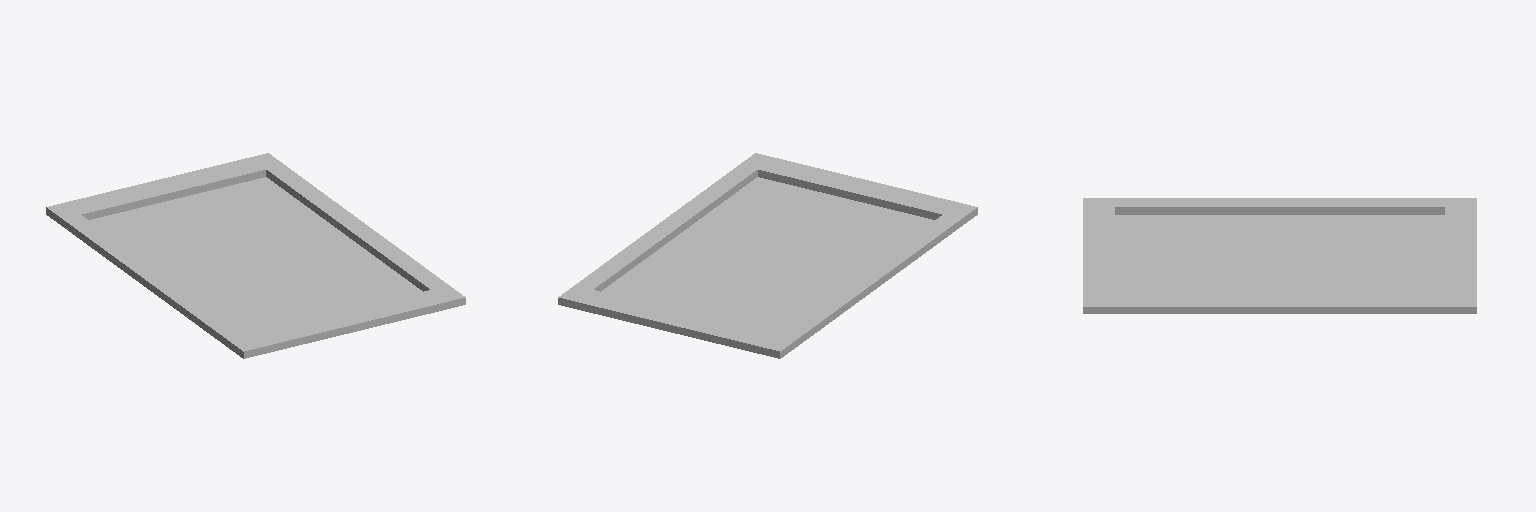
Rendered from frame.obj.
The picture shows the model from 3 angles: view 1: azimuth 30°, elevation 25°; view 2: azimuth 150°, elevation 25°; view 3: azimuth 270°, elevation 25°; orthographic projection.
Parts seen in each view (by area): view 1: Plane; view 2: Plane; view 3: Plane.
Boxes of the visible parts, x1=… form: Plane: x1=46, y1=153, x2=465, y2=358; Plane: x1=558, y1=153, x2=977, y2=358; Plane: x1=1083, y1=198, x2=1476, y2=313.
Size of the model in its own units: 3.12 by 0.1 by 4.8.